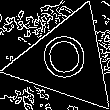O_S: (40, 31, 94, 90)
